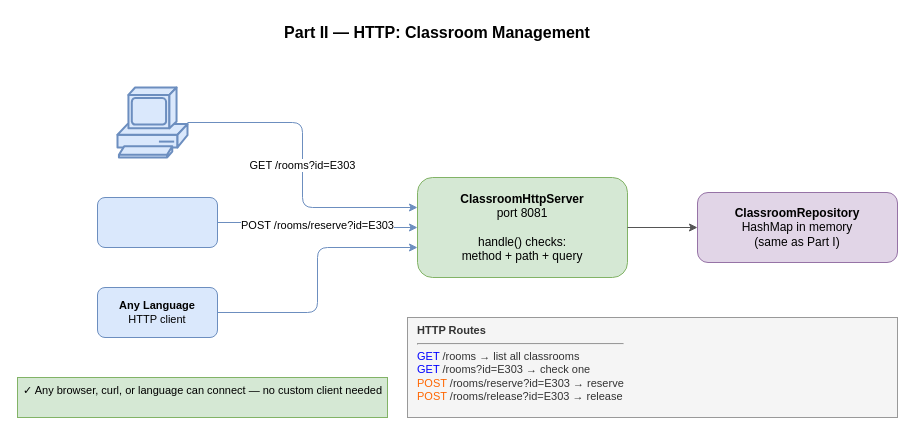
Image size: 915x437. Some labels were removed from this diagram. Here are the shapes that lost their labels. From the top down, the centre of each, then its label:
At point (152, 122): "Browser GET only".
At point (157, 222): "curl / Postman GET + POST".
